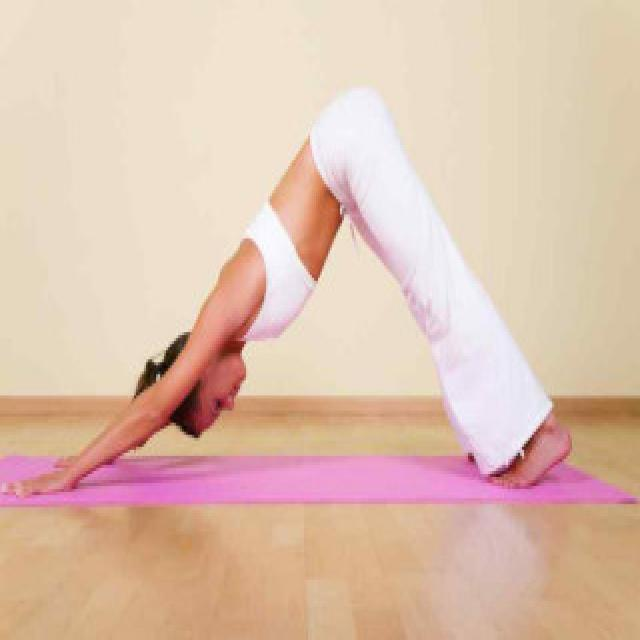yoga-pose downward: (53, 81, 572, 496)
